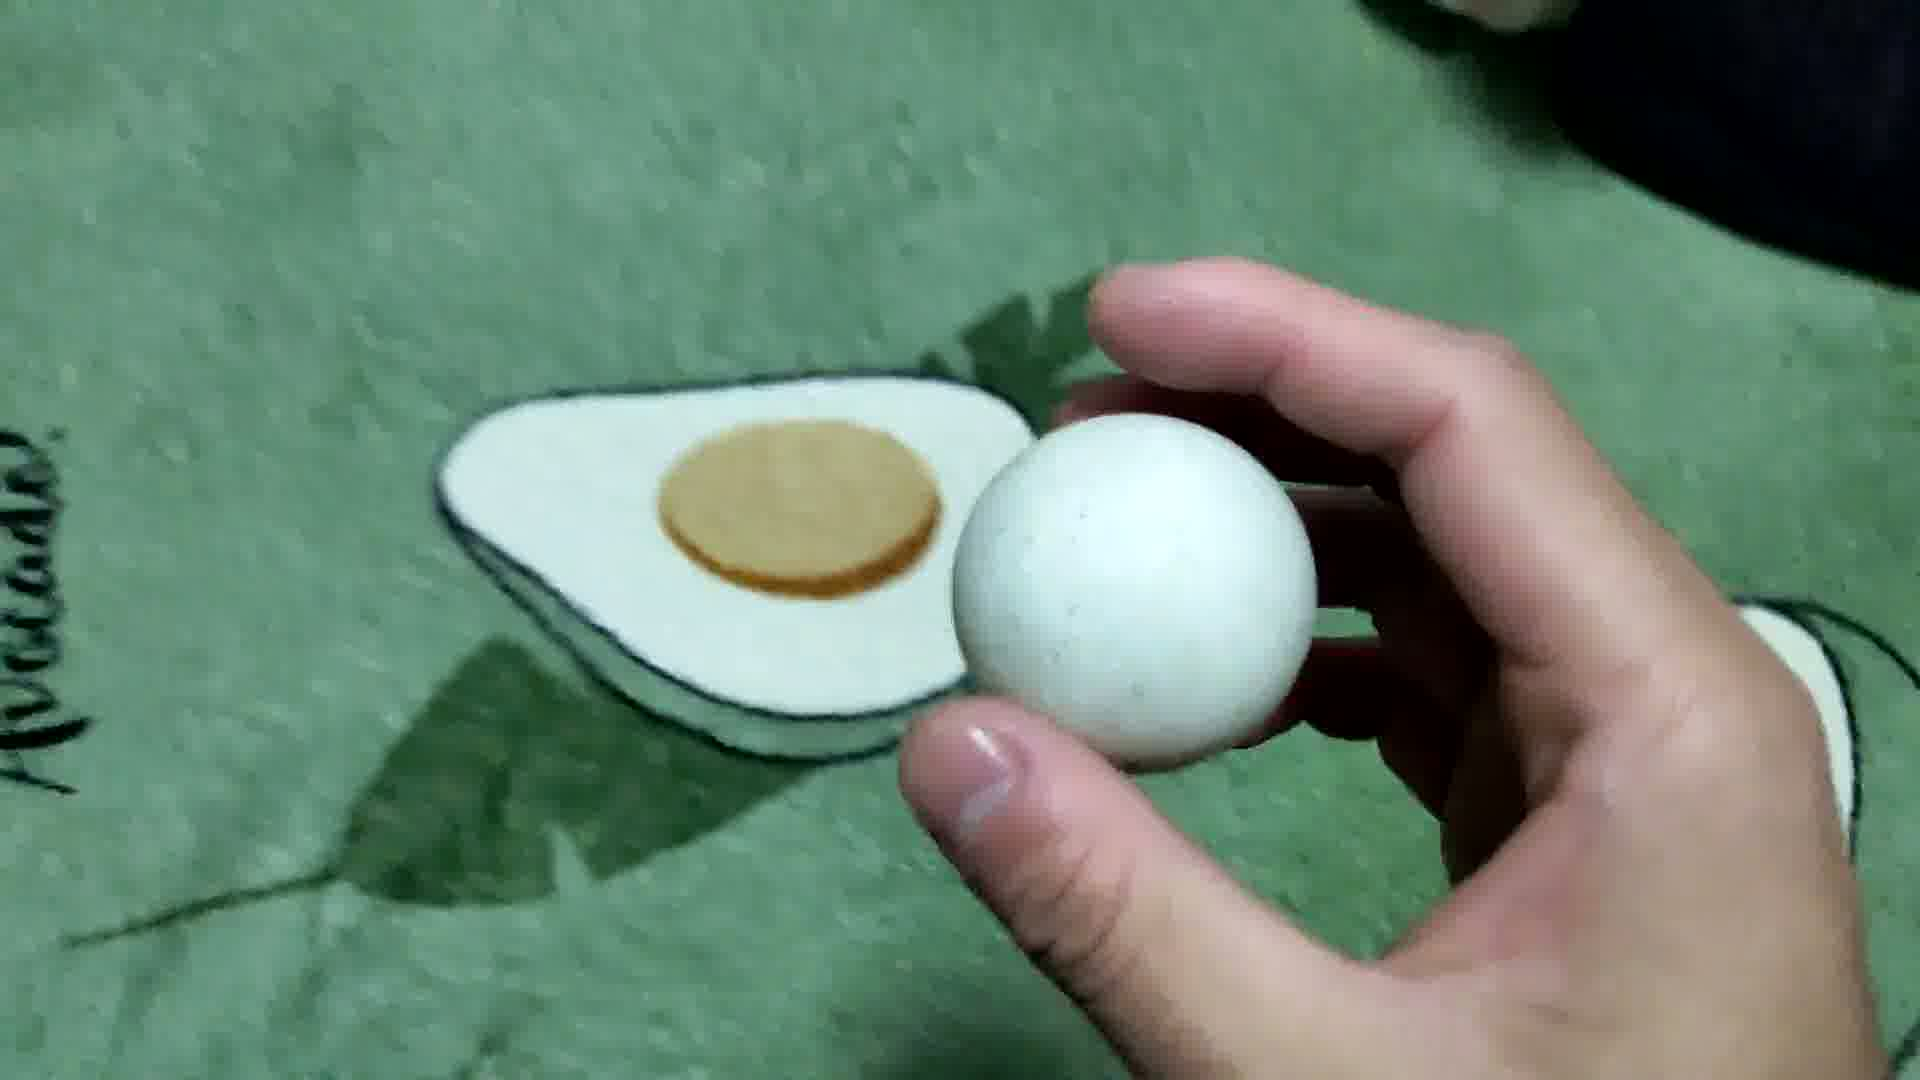Ball: (956, 411, 1320, 771)
